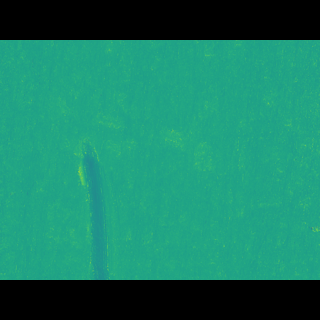Loch: (73, 137, 129, 250)
